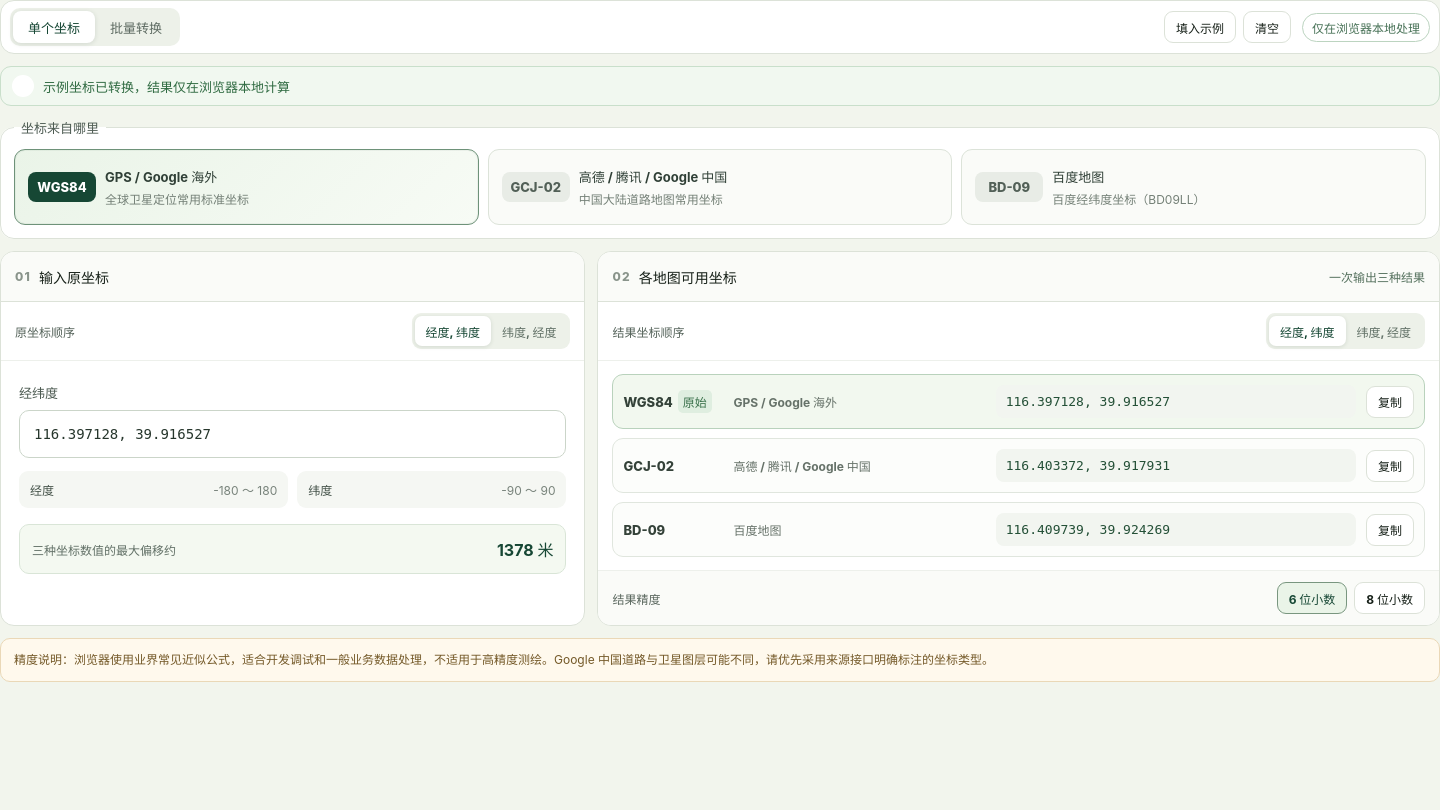
Test: CoordinateTool › supports source/target card selection and coordinate order changes
What coordinates should you click on to do the following:
click the button "批量转换"
I would click on:
 (136, 27)
Its box is [95,11,177,43].
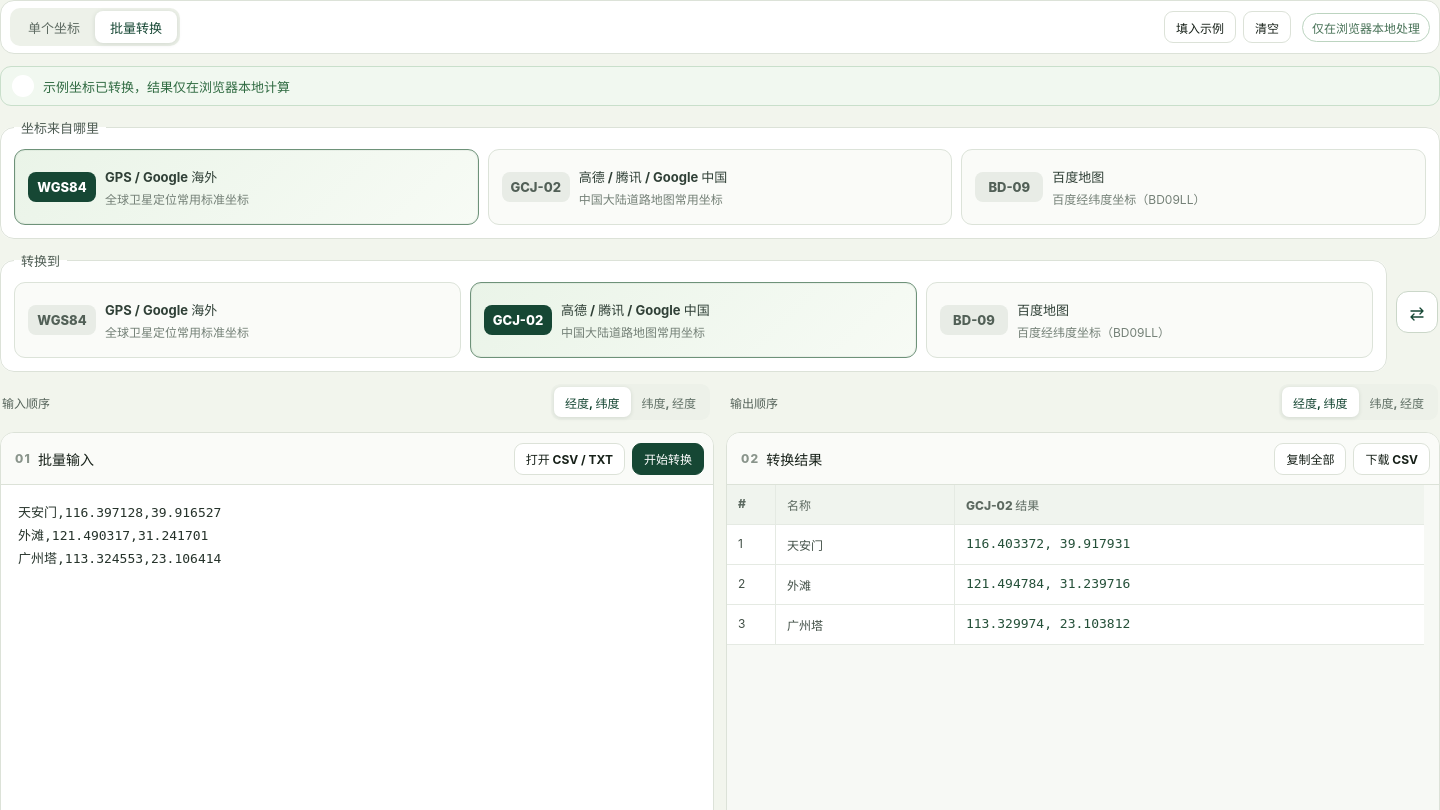
What coordinates should you click on to do the following:
click the button named "BD-09百度地图"
I would click on:
 (974, 320)
Its box is [926,282,1373,358].
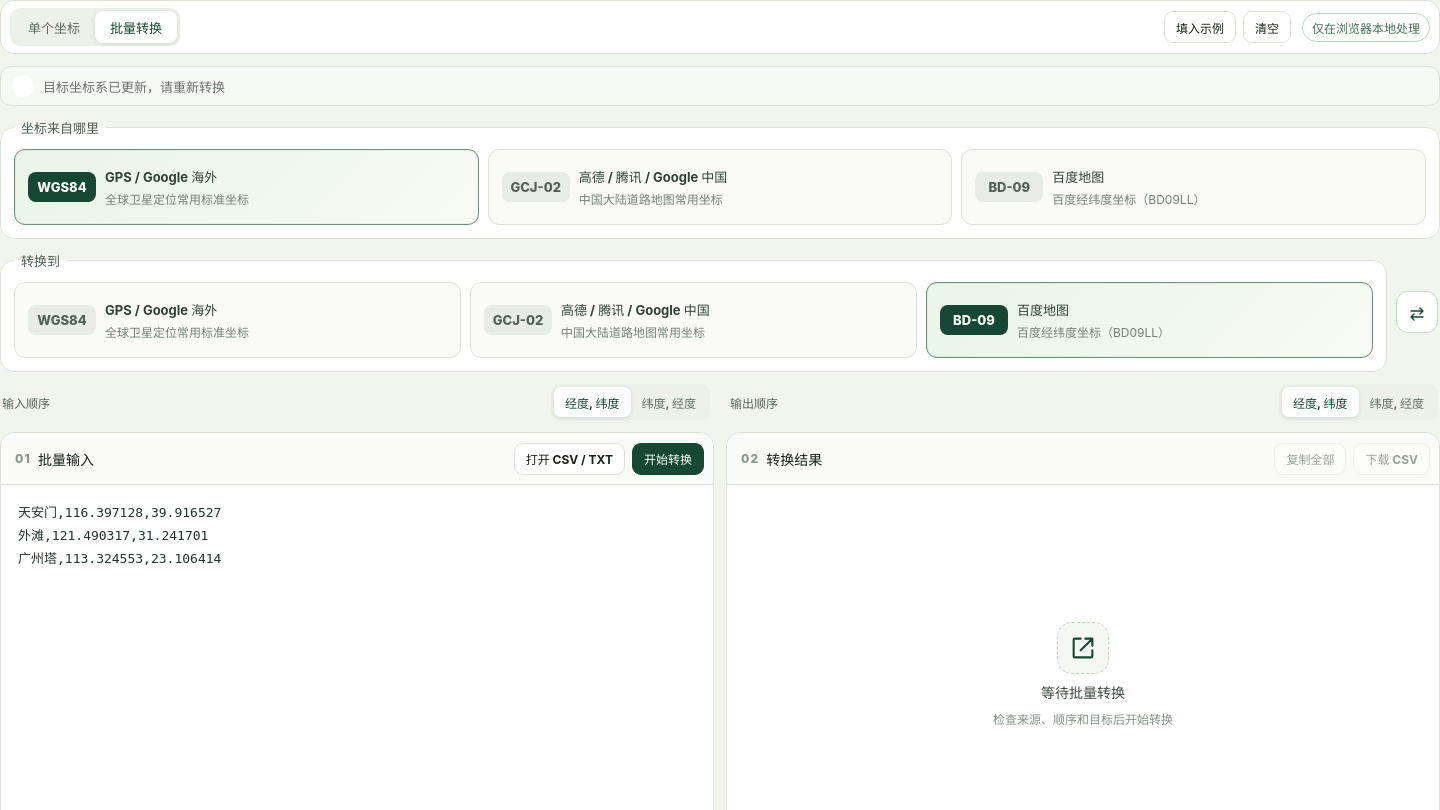
Expected: the message shows "目标坐标系已更新", [43,78,225,94]
What coordinates should you click on to do the following:
click the button "纬度, 经度" in the row of "输入顺序"
I would click on:
 (669, 402)
Its box is [630,387,707,417].
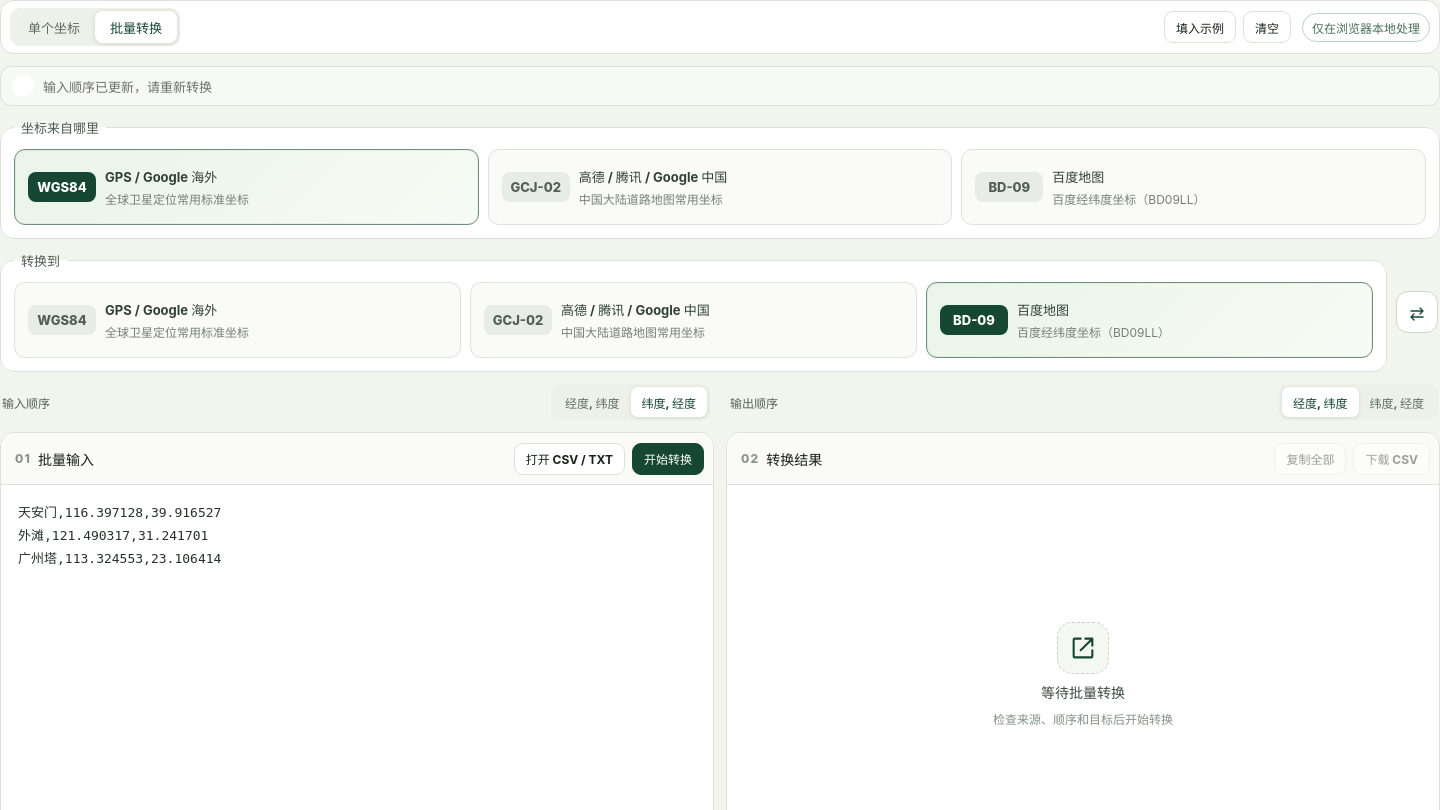
Expected: the message shows "输入顺序已更新", [43,78,212,94]
